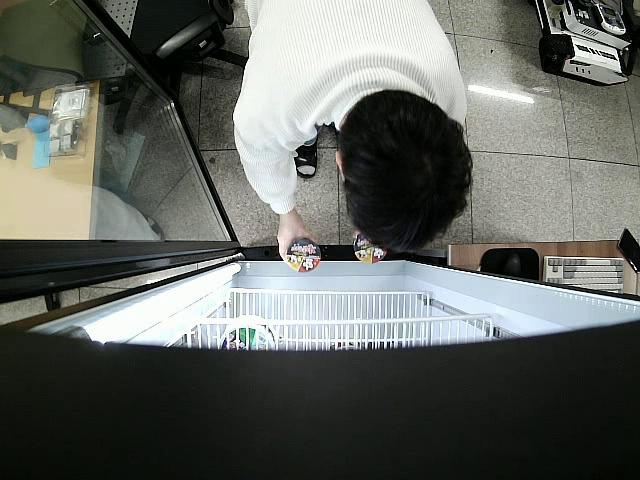00_hand: (277, 215, 315, 265)
08_buldak_S: (287, 239, 320, 273)
